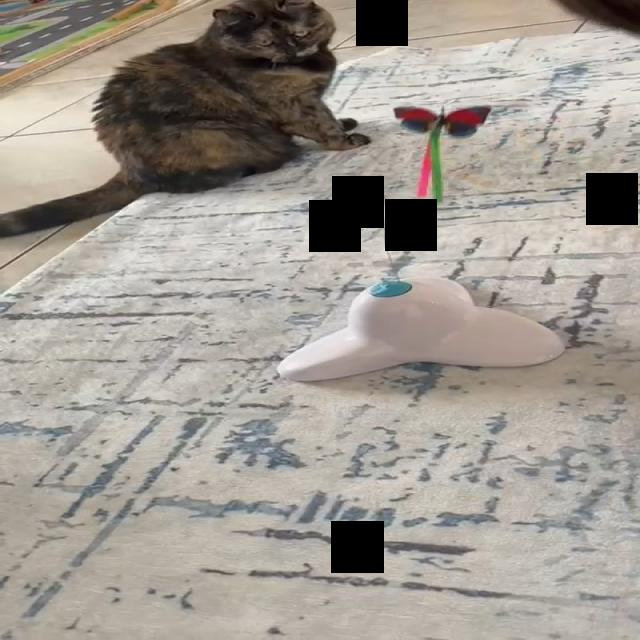authorized: (0, 0, 370, 238)
